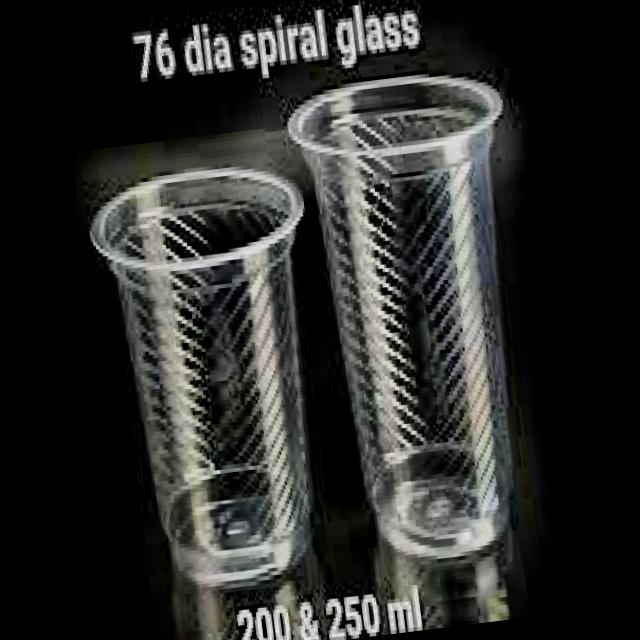plastic cup: (290, 76, 512, 559), (91, 169, 310, 585)
